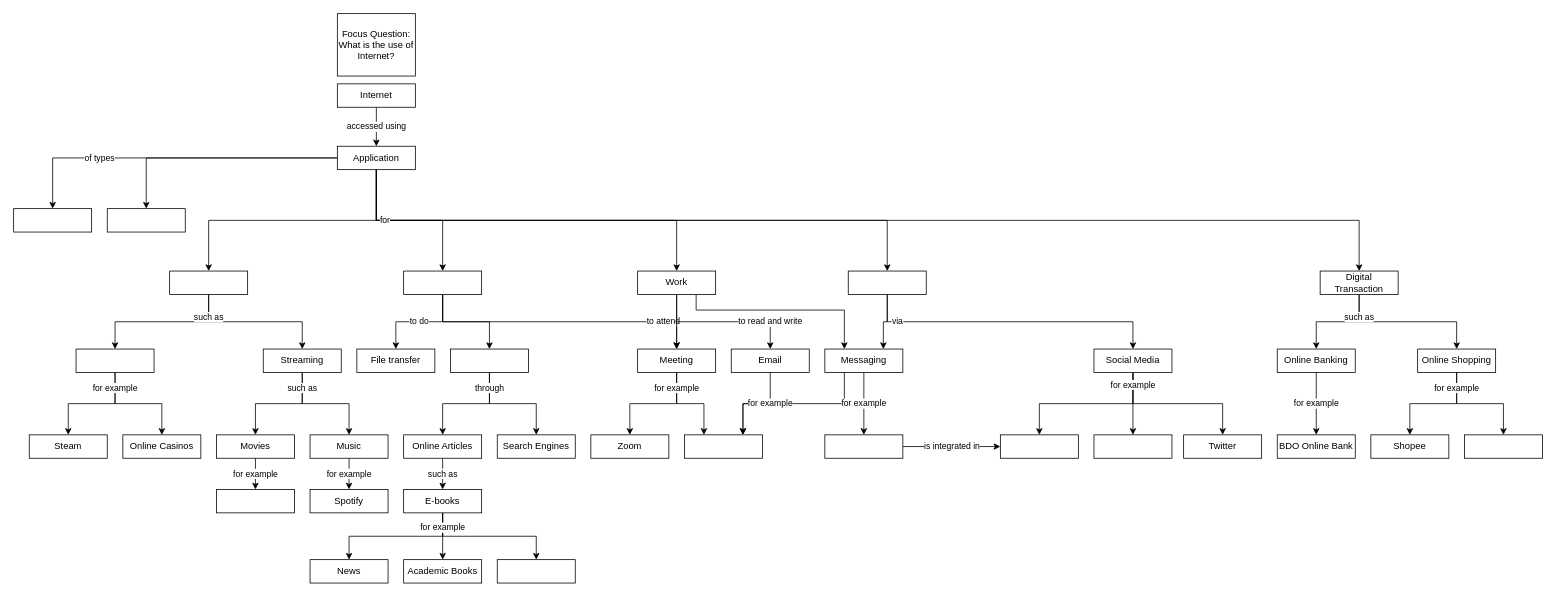
This 1556x597 diagram has some shape labels left out. Here are the shapes that lost their labels. From the top down, the centre of each, then its label:
pixel 52 220: Web-based Application
pixel 145 220: Non-web-based Application
pixel 208 282: Entertainment
pixel 442 282: School
pixel 886 282: Social Interaction
pixel 114 360: Gaming
pixel 489 360: Research
pixel 723 446: Microsoft Applications
pixel 863 446: Messenger
pixel 1039 446: Facebook
pixel 1132 446: Instagram
pixel 1503 446: Lazada
pixel 255 501: Netflix
pixel 535 571: Magazines
